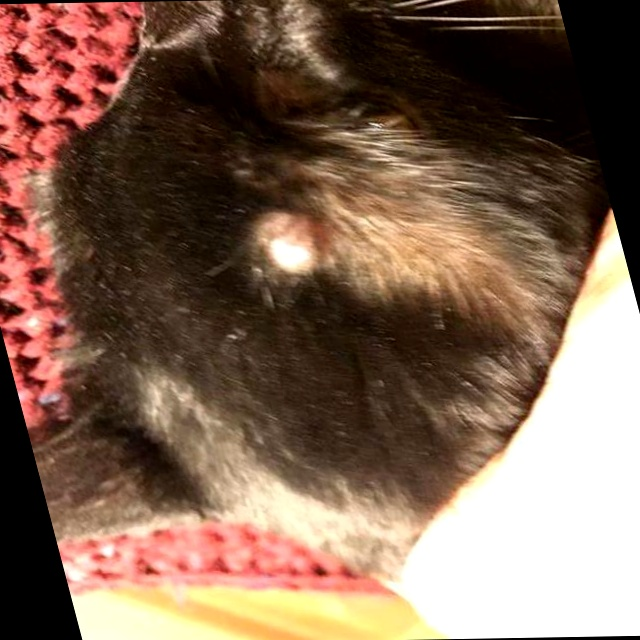lump_and_bump: (245, 205, 329, 288)
